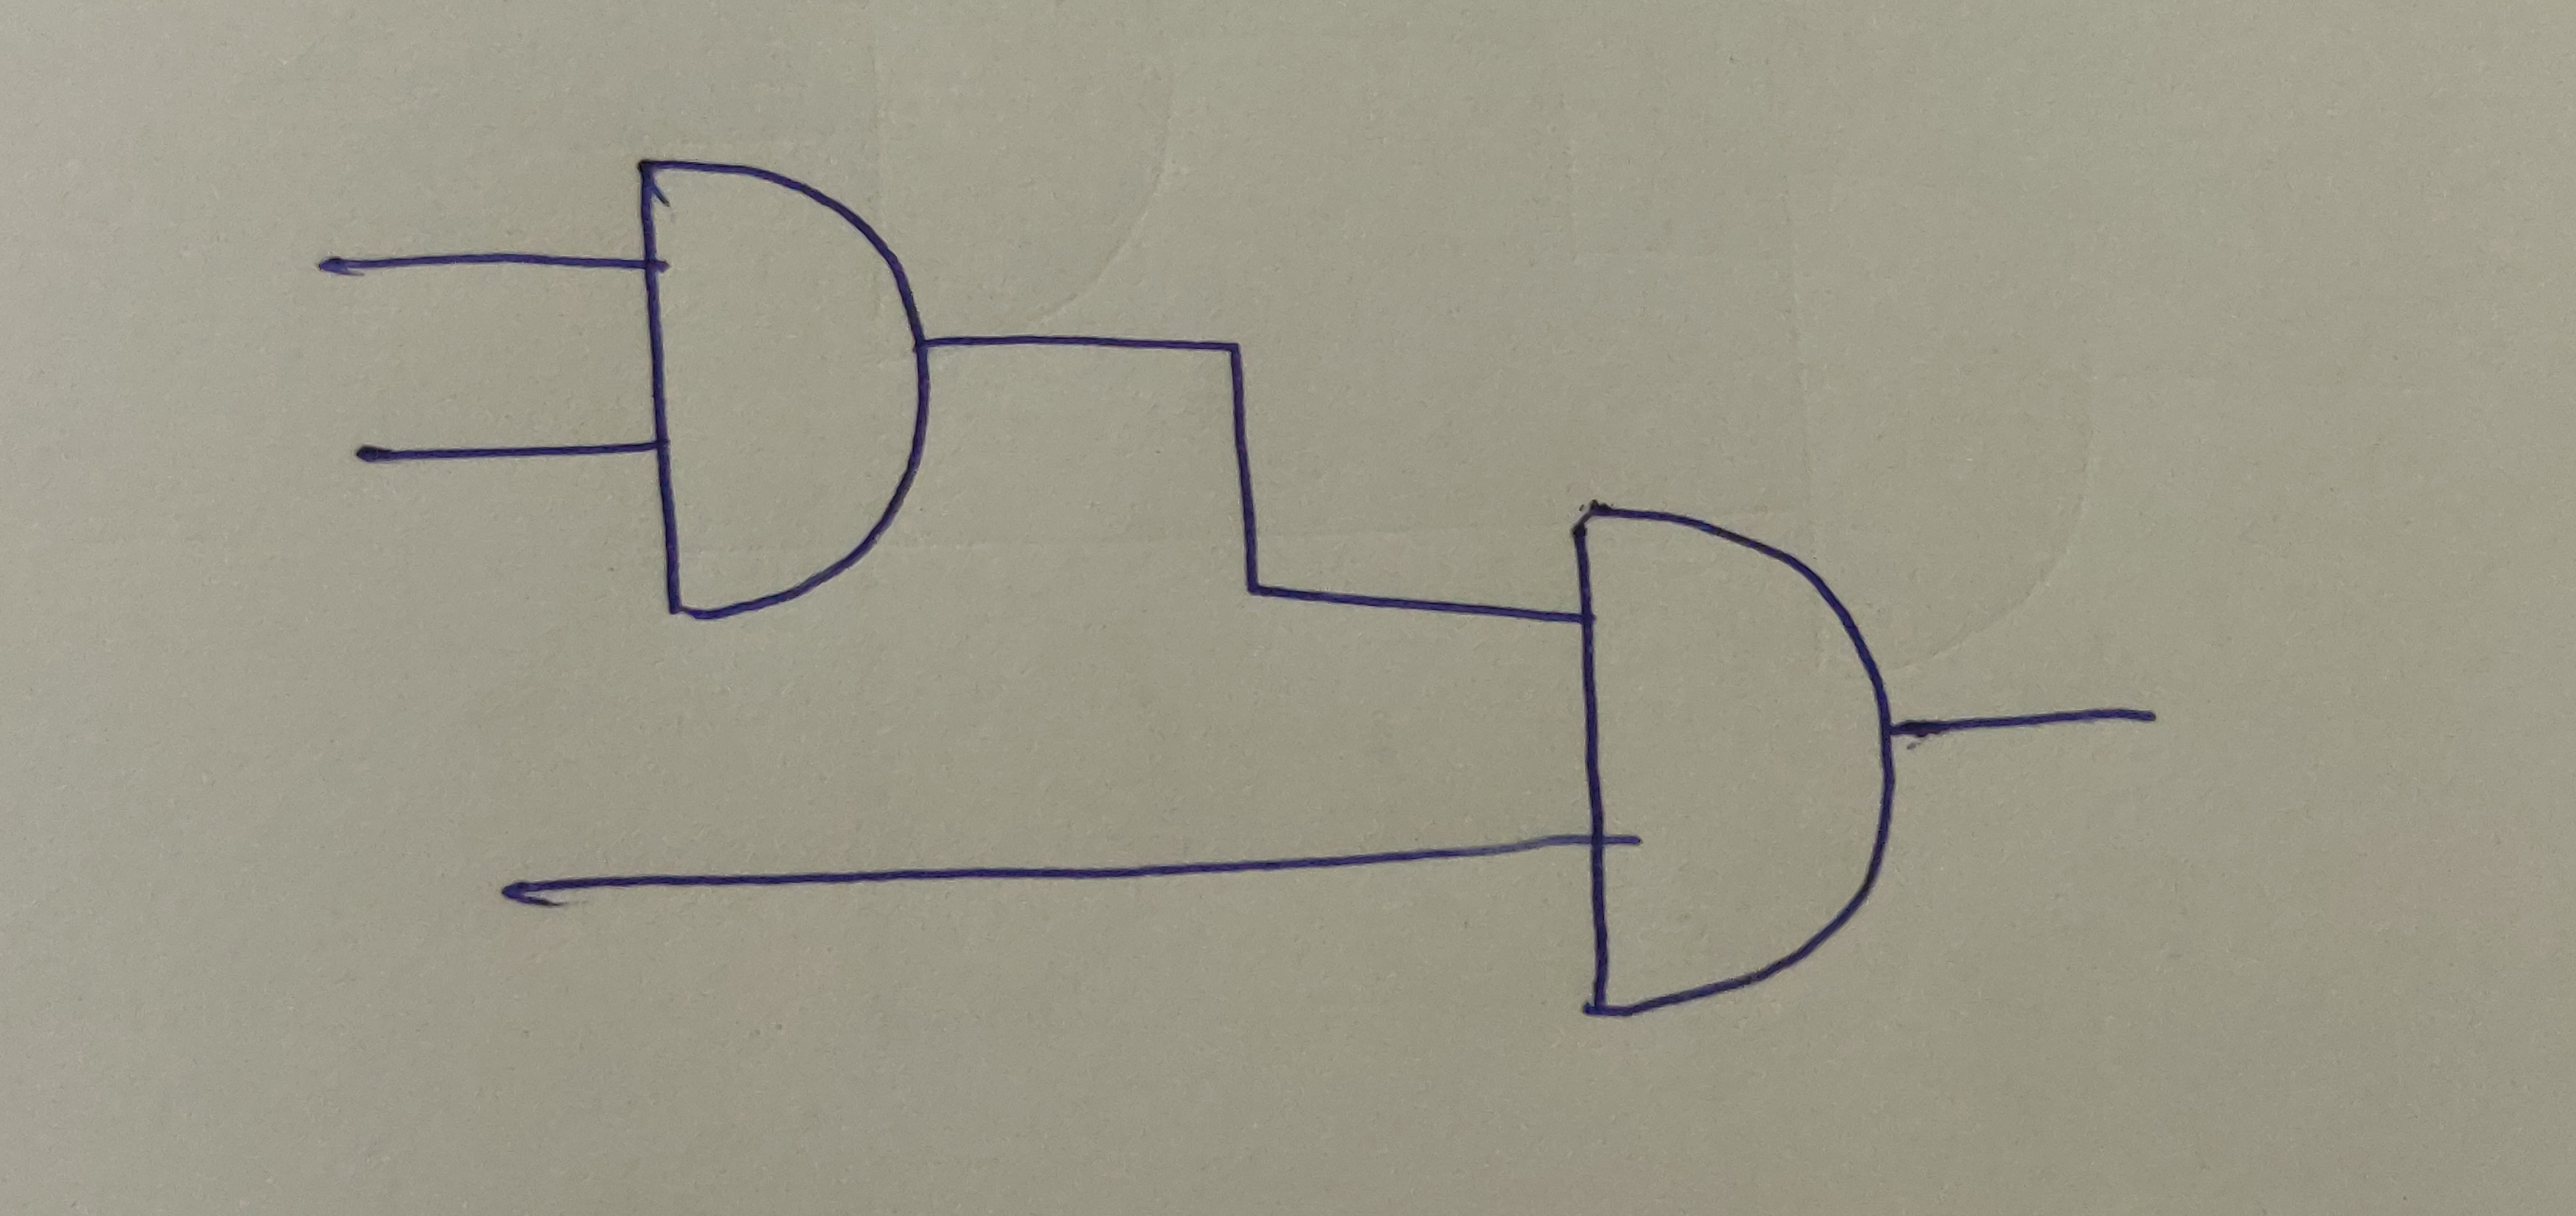and: (1575, 506, 1896, 1016), (637, 150, 927, 618)
